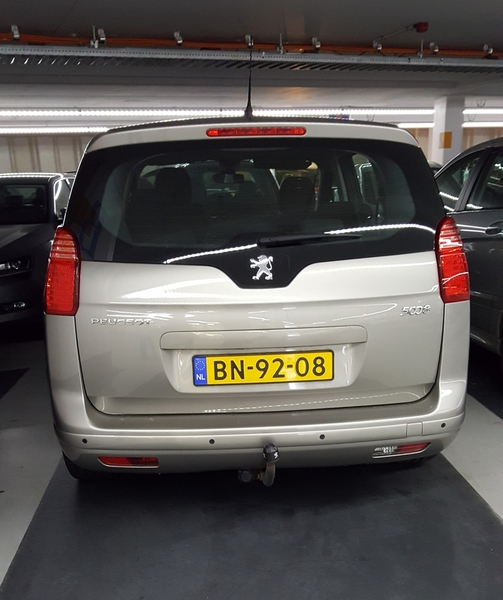kenteken: (191, 350, 332, 385)
